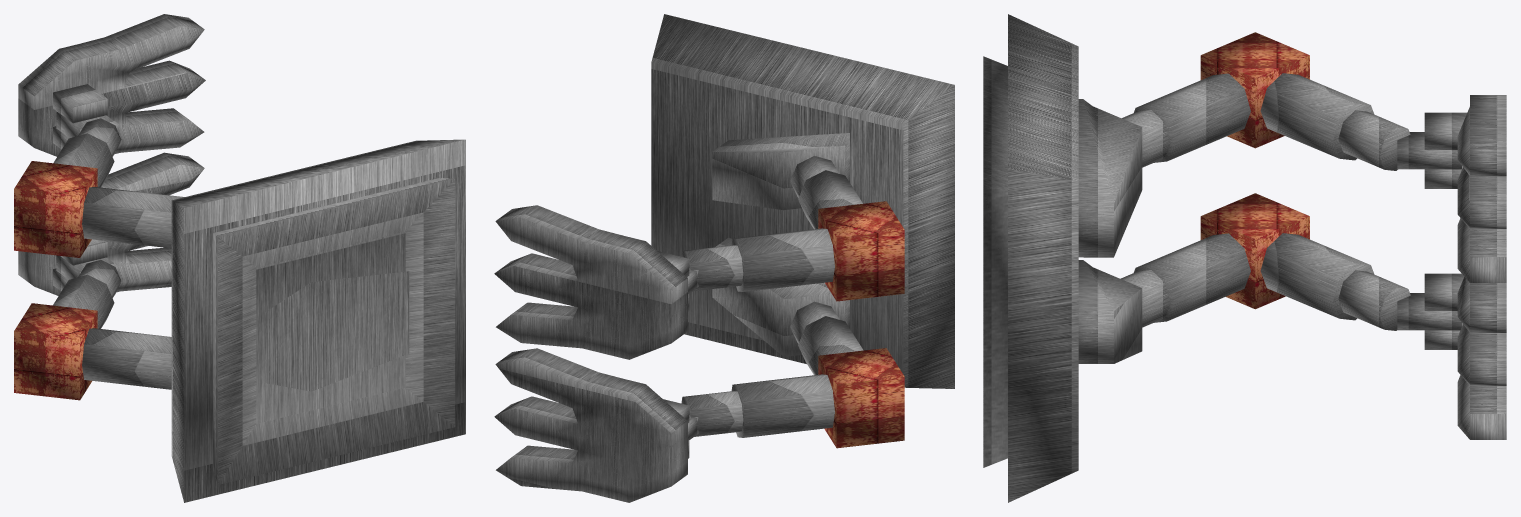
Rendered from Boss2-Body.fbx.
3 views of the same model, side by side, from view 1: azimuth 30°, elevation 25°; view 2: azimuth 150°, elevation 25°; view 3: azimuth 270°, elevation 25° (orthographic). The views are drawn at different scales.
Visible parts, largest first — view 1: Cube.006; view 2: Cube.006; view 3: Cube.006.
Part boxes in pixels (bbox=[...]): Cube.006: bbox=[14, 14, 465, 502]; Cube.006: bbox=[494, 14, 954, 502]; Cube.006: bbox=[983, 14, 1506, 502].
Size of the model in its own units: 6.28 by 5.17 by 7.35.
Materials: 2 (2 with a texture image).
